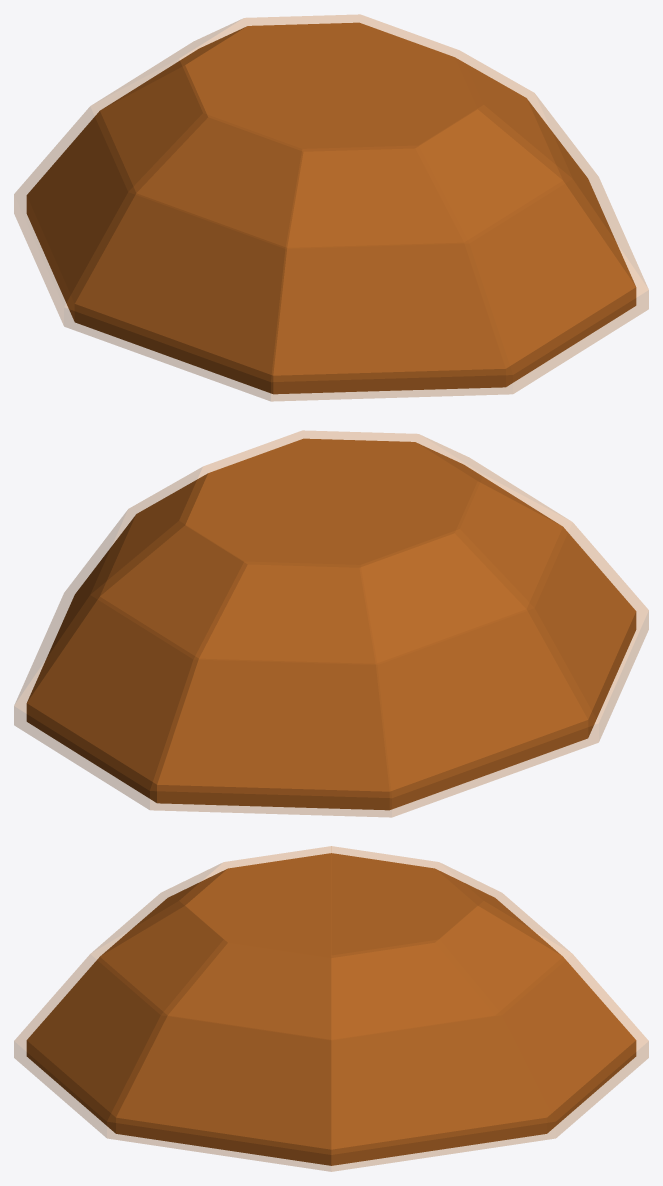
The model's file is item_7item198.glb.
3 views of the same model, one above another, from view 1: azimuth 30°, elevation 25°; view 2: azimuth 150°, elevation 25°; view 3: azimuth 270°, elevation 25° (orthographic). The views are drawn at different scales.
Visible parts, largest first — view 1: jewellery_7item198_glass, jewellery_7item198; view 2: jewellery_7item198_glass, jewellery_7item198; view 3: jewellery_7item198_glass, jewellery_7item198.
Part boxes in pixels (x1=…): jewellery_7item198_glass: x1=14, y1=14, x2=648, y2=401; jewellery_7item198: x1=26, y1=22, x2=636, y2=394; jewellery_7item198_glass: x1=14, y1=430, x2=648, y2=817; jewellery_7item198: x1=26, y1=438, x2=636, y2=810; jewellery_7item198_glass: x1=14, y1=846, x2=648, y2=1171; jewellery_7item198: x1=26, y1=853, x2=636, y2=1165.
Size of the model in its own units: 0.85 by 0.42 by 1.
